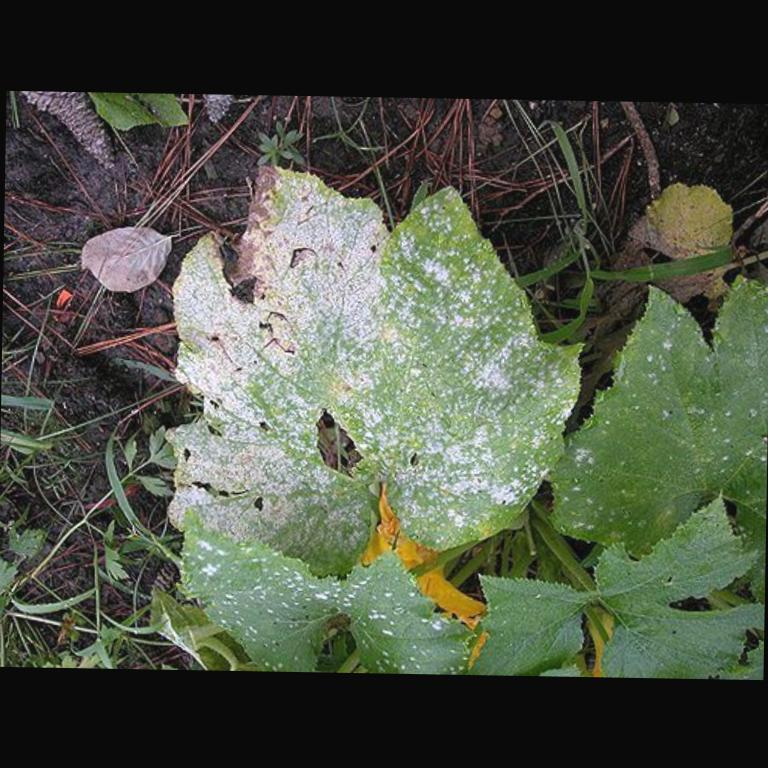powdery-mildew: (393, 292, 520, 507)
